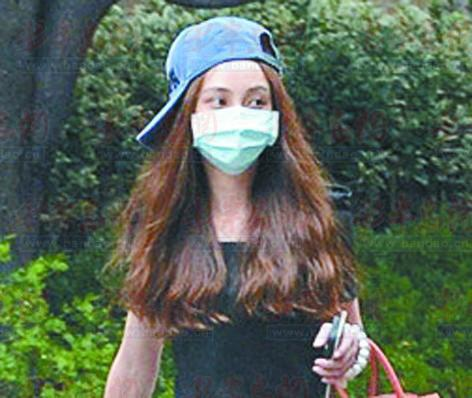OK: (191, 79, 275, 171)
